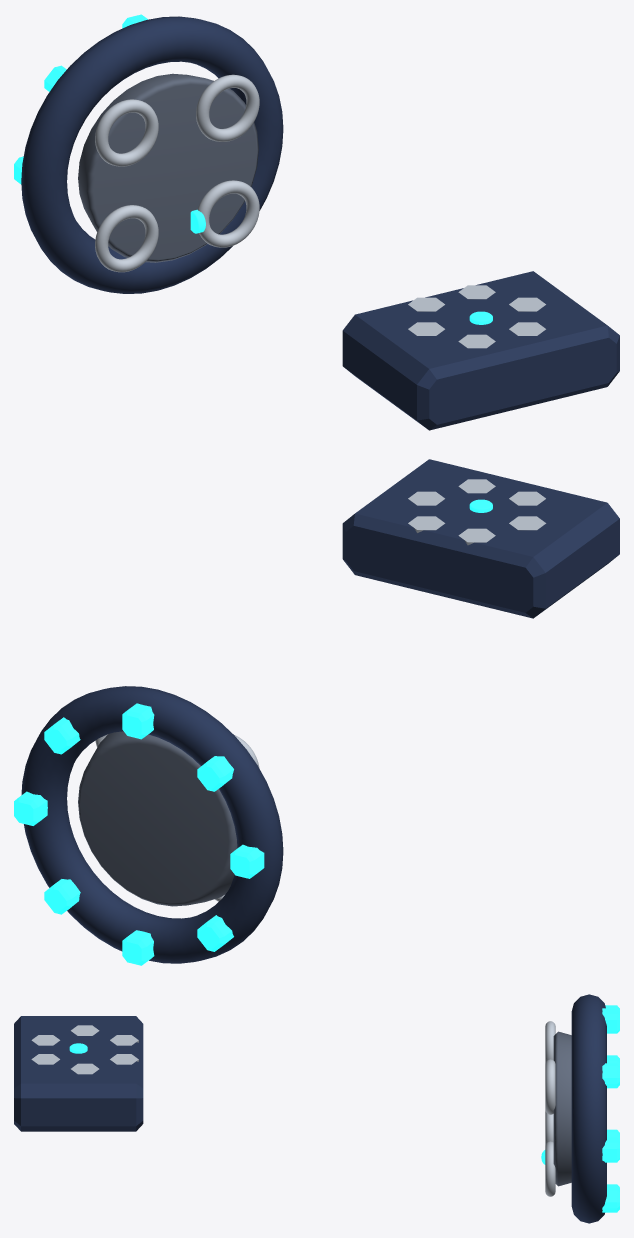
File: tower_skywatch_damage_s4.glb
3 renders of one model, top to bottom at view 1: azimuth 30°, elevation 25°; view 2: azimuth 150°, elevation 25°; view 3: azimuth 270°, elevation 25°, orthographic. The views are drawn at different scales.
Parts seen in each view (by area): view 1: skywatch_housing_armour, skywatch_fuse_ring, skywatch_fuse_collar, skywatch_armour_bolts, skywatch_crown3, skywatch_crown1, skywatch_crown2, skywatch_crown0; view 2: skywatch_housing_armour, skywatch_fuse_ring, skywatch_fuse_collar, skywatch_armour_bolts, skywatch_fuse_node0, skywatch_fuse_node2, skywatch_fuse_node1, skywatch_fuse_node6, skywatch_fuse_node4, skywatch_fuse_node5, skywatch_fuse_node3, skywatch_fuse_node7; view 3: skywatch_housing_armour, skywatch_fuse_ring, skywatch_fuse_collar, skywatch_armour_bolts, skywatch_crown1, skywatch_crown0, skywatch_fuse_node3, skywatch_fuse_node4, skywatch_fuse_node2, skywatch_fuse_node5, skywatch_crown3.
Part boxes in pixels (x1=…): skywatch_housing_armour: x1=342, y1=271, x2=619, y2=430; skywatch_fuse_ring: x1=21, y1=16, x2=283, y2=293; skywatch_fuse_collar: x1=78, y1=73, x2=258, y2=262; skywatch_armour_bolts: x1=408, y1=285, x2=545, y2=348; skywatch_crown3: x1=95, y1=99, x2=158, y2=166; skywatch_crown1: x1=196, y1=74, x2=259, y2=141; skywatch_crown2: x1=95, y1=205, x2=158, y2=272; skywatch_crown0: x1=197, y1=180, x2=259, y2=247; skywatch_housing_armour: x1=342, y1=459, x2=619, y2=618; skywatch_fuse_ring: x1=21, y1=686, x2=283, y2=963; skywatch_fuse_collar: x1=78, y1=731, x2=237, y2=906; skywatch_armour_bolts: x1=408, y1=479, x2=546, y2=545; skywatch_fuse_node0: x1=230, y1=844, x2=264, y2=878; skywatch_fuse_node2: x1=122, y1=703, x2=154, y2=739; skywatch_fuse_node1: x1=197, y1=756, x2=233, y2=791; skywatch_fuse_node6: x1=122, y1=930, x2=154, y2=965; skywatch_fuse_node4: x1=14, y1=791, x2=47, y2=825; skywatch_fuse_node5: x1=44, y1=879, x2=80, y2=914; skywatch_fuse_node3: x1=44, y1=717, x2=80, y2=754; skywatch_fuse_node7: x1=197, y1=915, x2=233, y2=951; skywatch_housing_armour: x1=14, y1=1016, x2=143, y2=1131; skywatch_fuse_ring: x1=571, y1=994, x2=606, y2=1223; skywatch_fuse_collar: x1=553, y1=1031, x2=571, y2=1186; skywatch_armour_bolts: x1=31, y1=1025, x2=138, y2=1074; skywatch_crown1: x1=545, y1=1059, x2=555, y2=1114; skywatch_crown0: x1=545, y1=1141, x2=555, y2=1196; skywatch_fuse_node3: x1=602, y1=1063, x2=619, y2=1088; skywatch_fuse_node4: x1=602, y1=1137, x2=619, y2=1162; skywatch_fuse_node2: x1=602, y1=1008, x2=619, y2=1033; skywatch_fuse_node5: x1=602, y1=1187, x2=619, y2=1212; skywatch_crown3: x1=545, y1=1021, x2=555, y2=1063.
Size of the model in its own units: 0.71 by 0.71 by 1.88.
